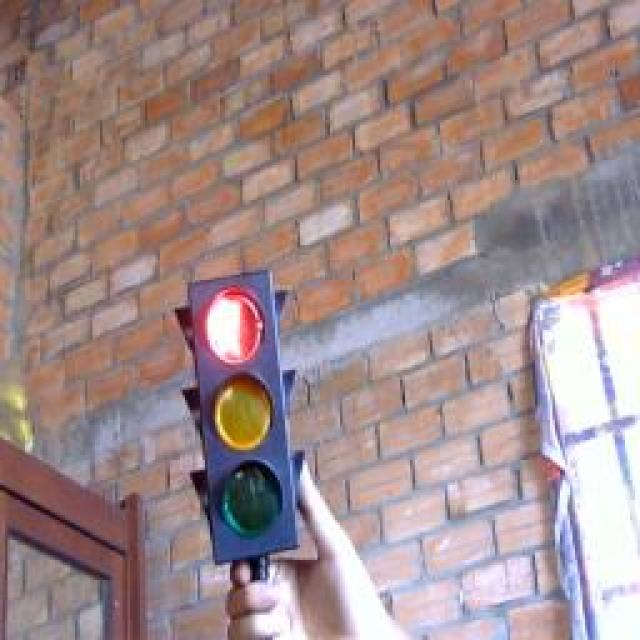-: (194, 278, 279, 376)
